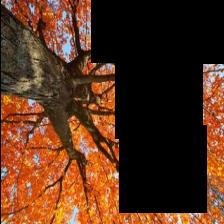orange: (0, 1, 126, 60), (93, 114, 191, 181), (141, 2, 224, 80), (2, 125, 66, 214), (192, 82, 223, 200), (83, 150, 132, 223), (118, 2, 178, 60), (54, 163, 88, 224), (16, 184, 58, 220), (102, 79, 151, 105), (112, 150, 150, 178), (134, 193, 166, 224), (129, 106, 164, 121), (157, 86, 189, 101), (129, 177, 158, 193)
